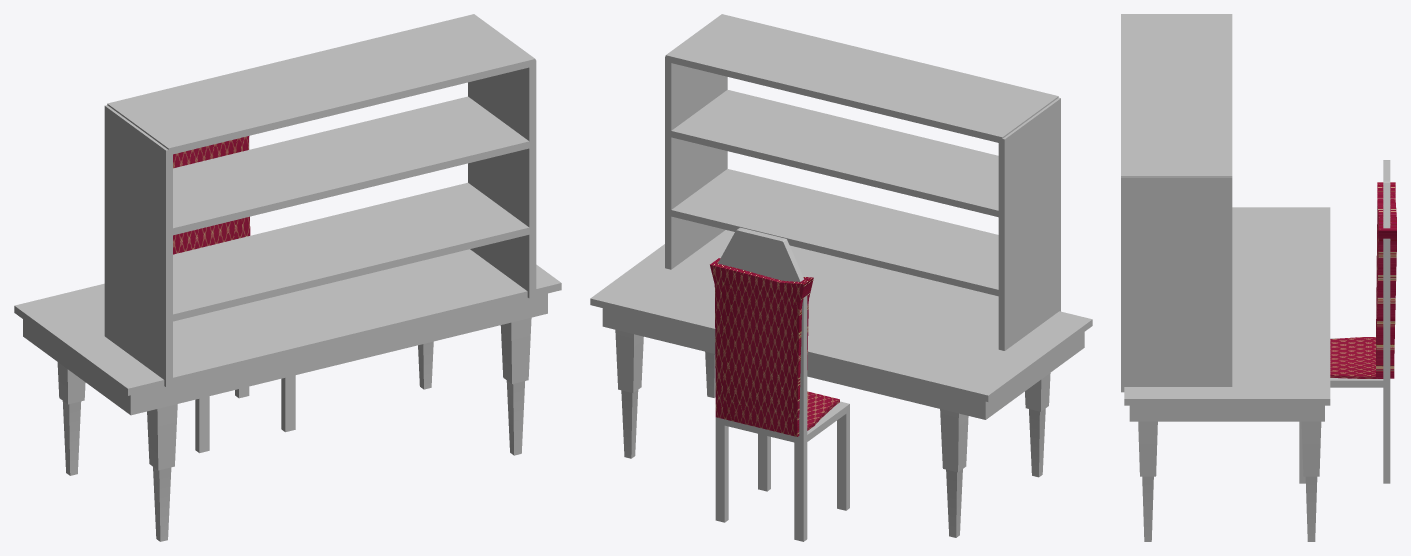
The model's file is Desk 2 with chair.fbx.
The picture shows the model from 3 angles, left to right: view 1: azimuth 30°, elevation 25°; view 2: azimuth 150°, elevation 25°; view 3: azimuth 270°, elevation 25°; orthographic projection. The views are drawn at different scales.
Parts seen in each view (by area): view 1: pCube1176, pasted__pCube843, pCube1124; view 2: pCube1176, pasted__pCube843, pCube1124, pasted__pCube844; view 3: pCube1176, pCube1124, pasted__pCube843, pasted__pCube844.
Boxes of the visible parts, <box> form: pCube1176: <box>14,14,561,541</box>; pasted__pCube843: <box>173,136,250,254</box>; pCube1124: <box>195,137,295,453</box>; pCube1176: <box>590,14,1092,537</box>; pasted__pCube843: <box>710,258,813,436</box>; pCube1124: <box>715,227,849,541</box>; pasted__pCube844: <box>807,391,839,430</box>; pCube1176: <box>1121,14,1330,541</box>; pCube1124: <box>1299,160,1390,483</box>; pasted__pCube843: <box>1376,182,1396,378</box>; pasted__pCube844: <box>1330,337,1382,378</box>.
Bounding box in the file's own units: 375 × 338 × 228.
